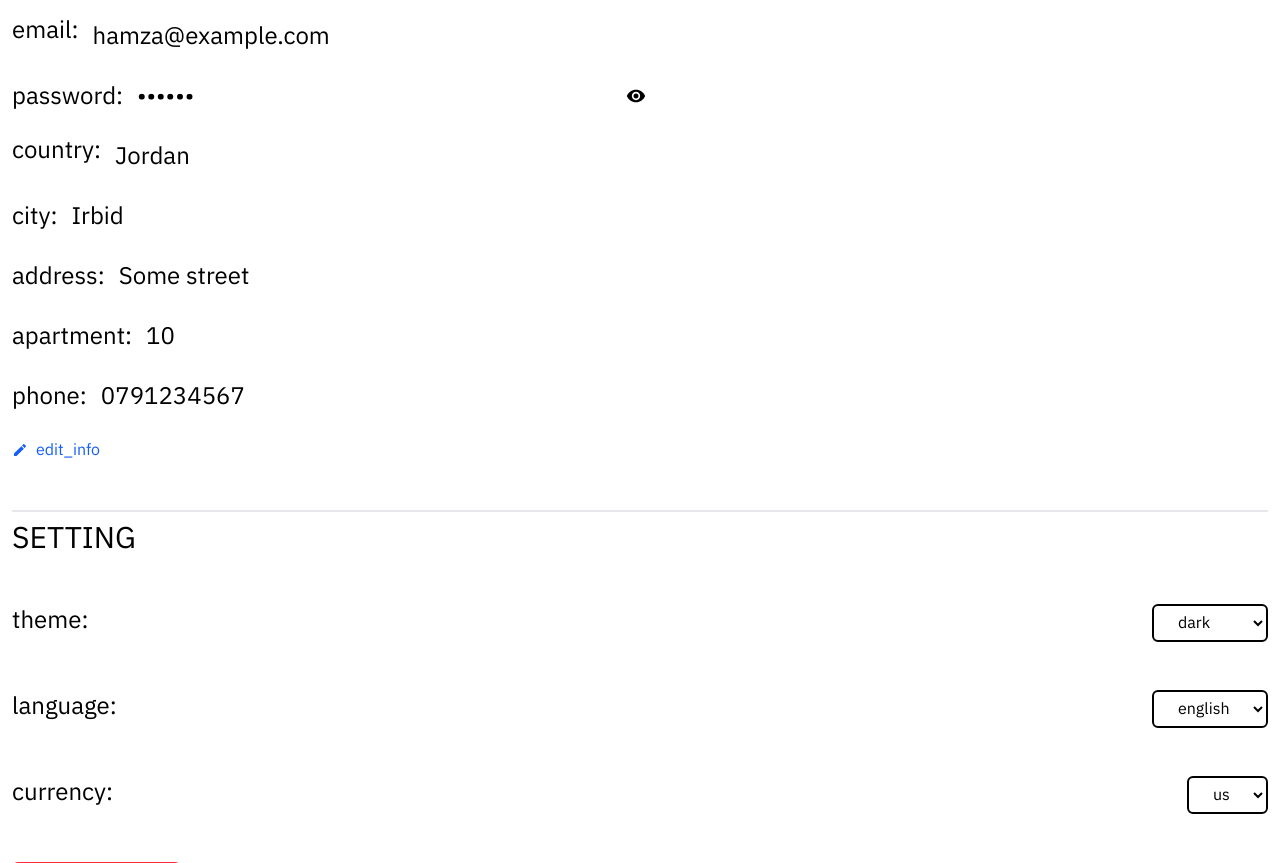
it: MyAccount Component › toggles password visibility
(page scrolled)
Click the button "edit_info" at x=56, y=450, box x1=12 y1=438 x2=100 y2=462
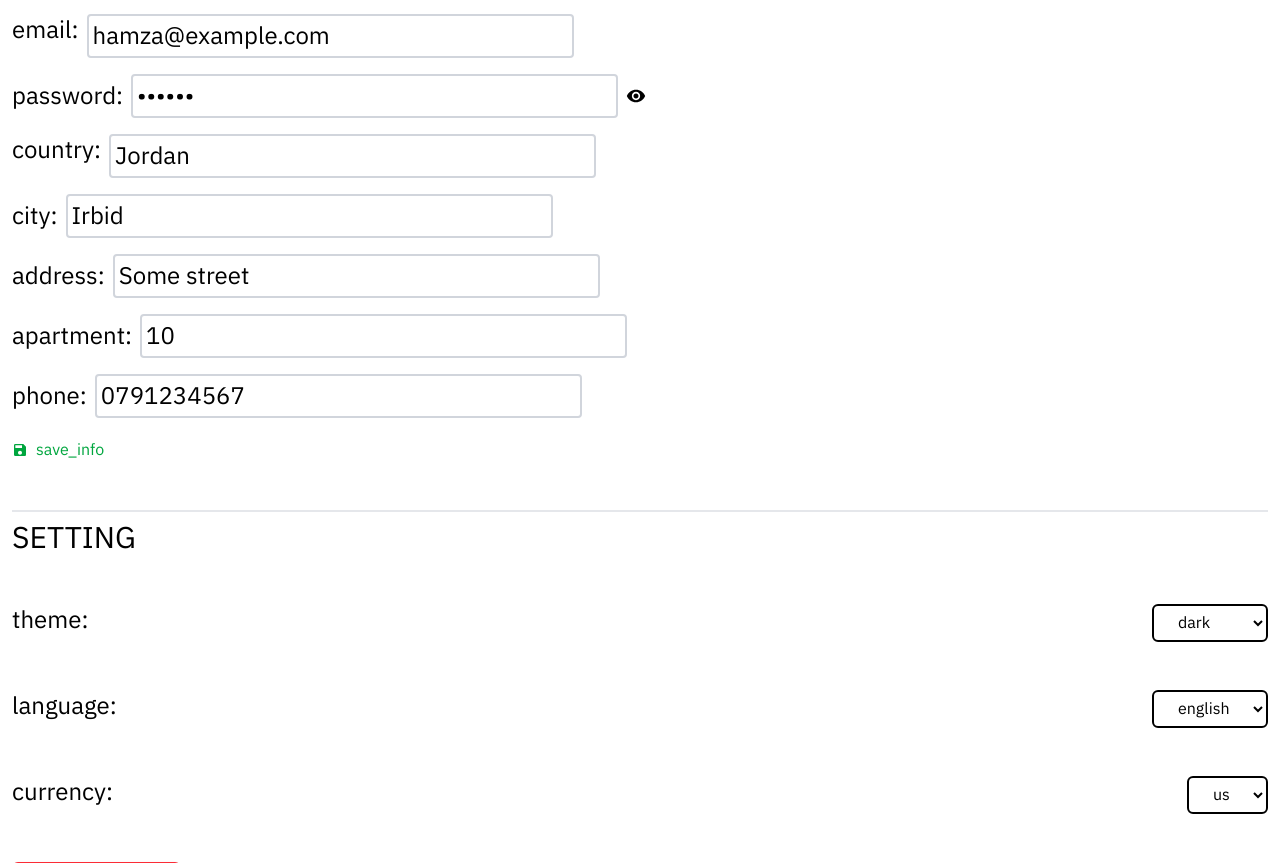
Click the button with test id "visibility" at x=636, y=96, box x1=626 y1=86 x2=646 y2=106
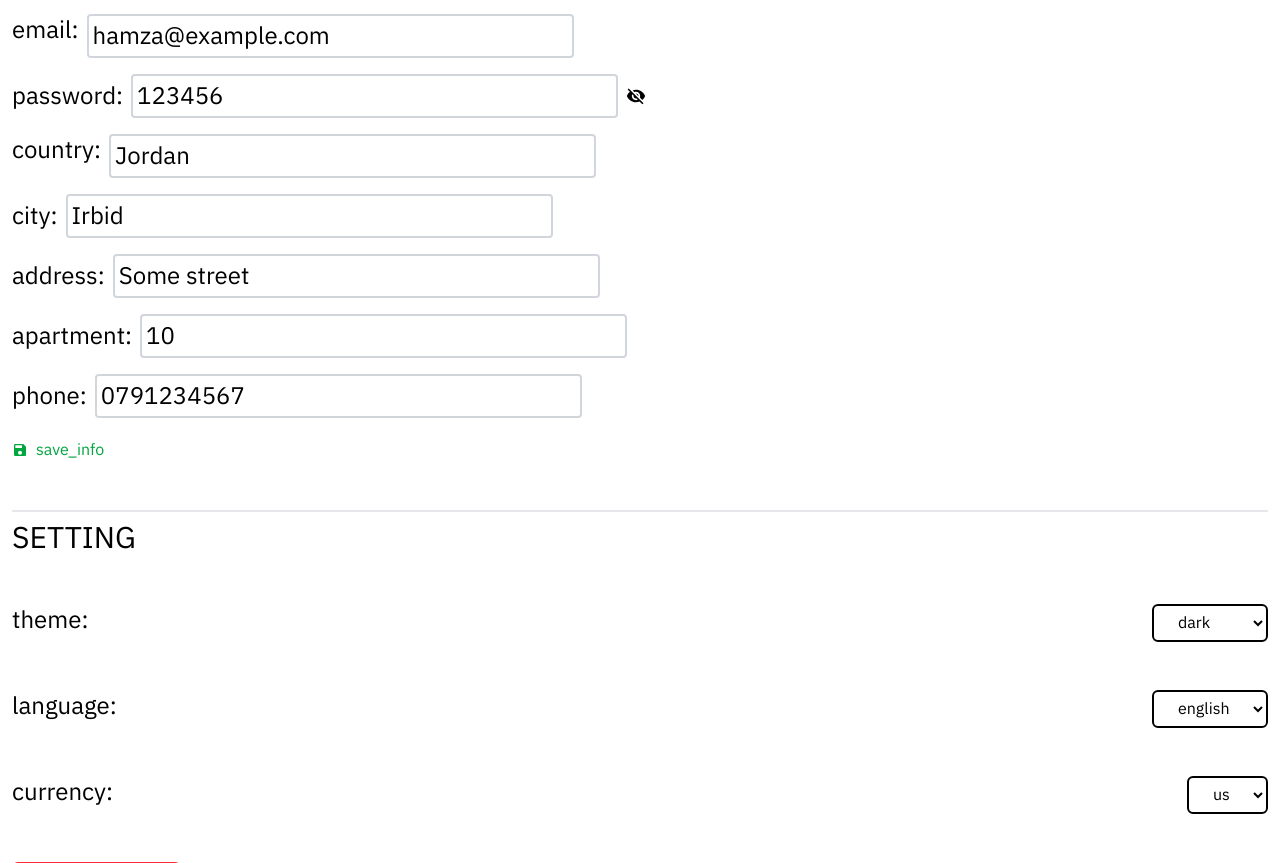
expect the field showing "123456" next to "password" shows its text: met, box x1=131 y1=74 x2=618 y2=118
